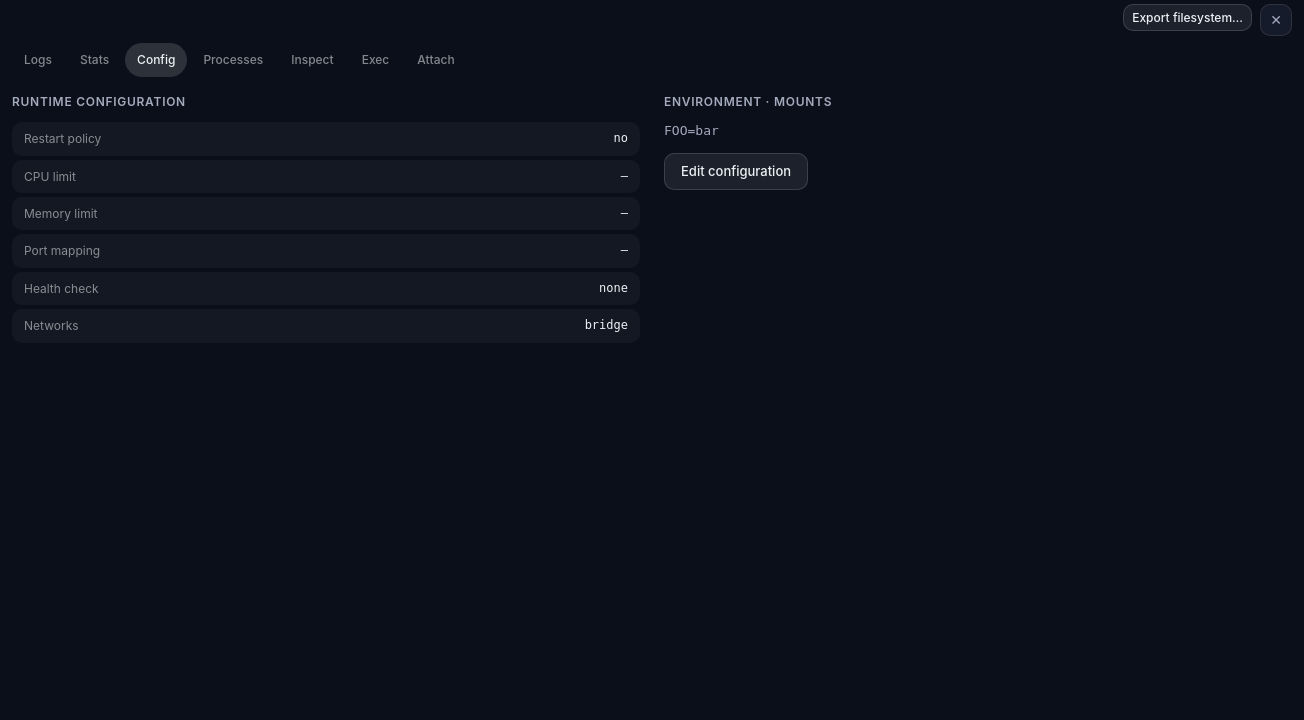
Test: ContainerDetailPanel — Config tab (REQ-24, REQ-25) › reports the daemon's own message on failure and keeps the edited input intact
Click the button "Edit configuration": (736, 171) [664,153,808,190]
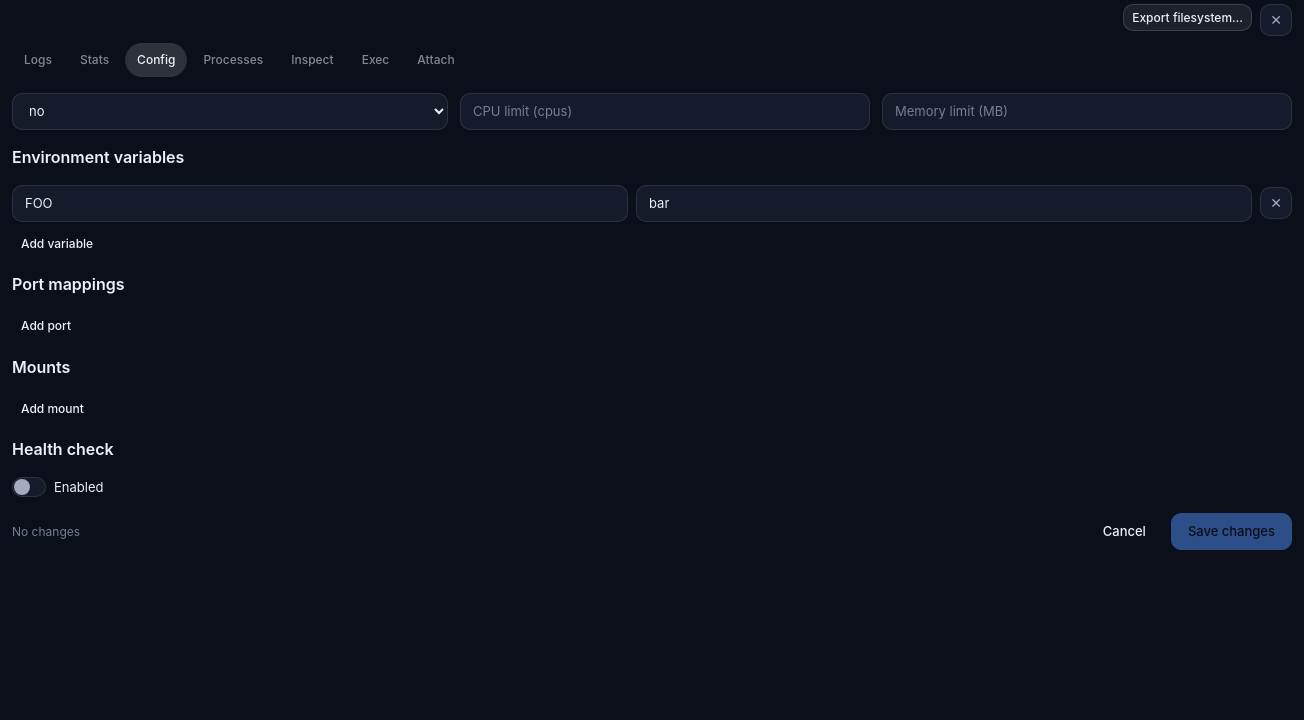
Select "always" in the dropdown named "Restart policy": (230, 111) [12,93,448,130]
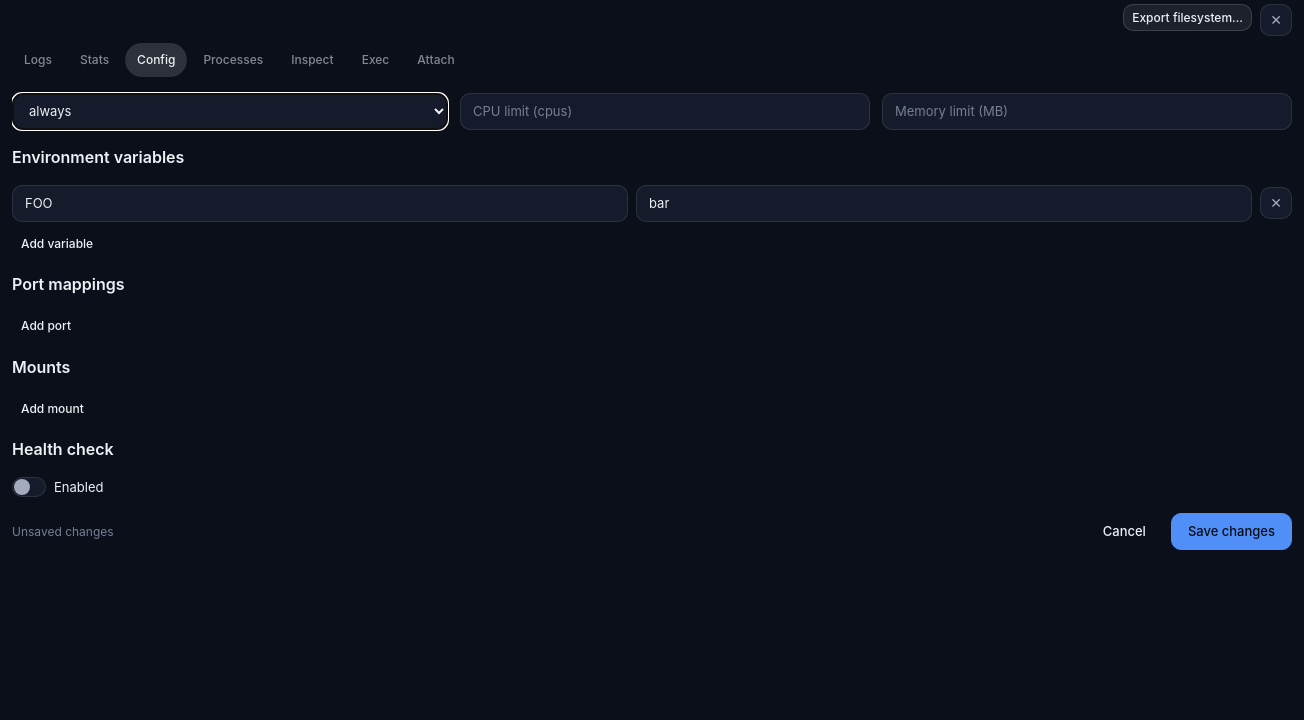
Click the button "Save changes": (1231, 532) [1171,513,1292,550]
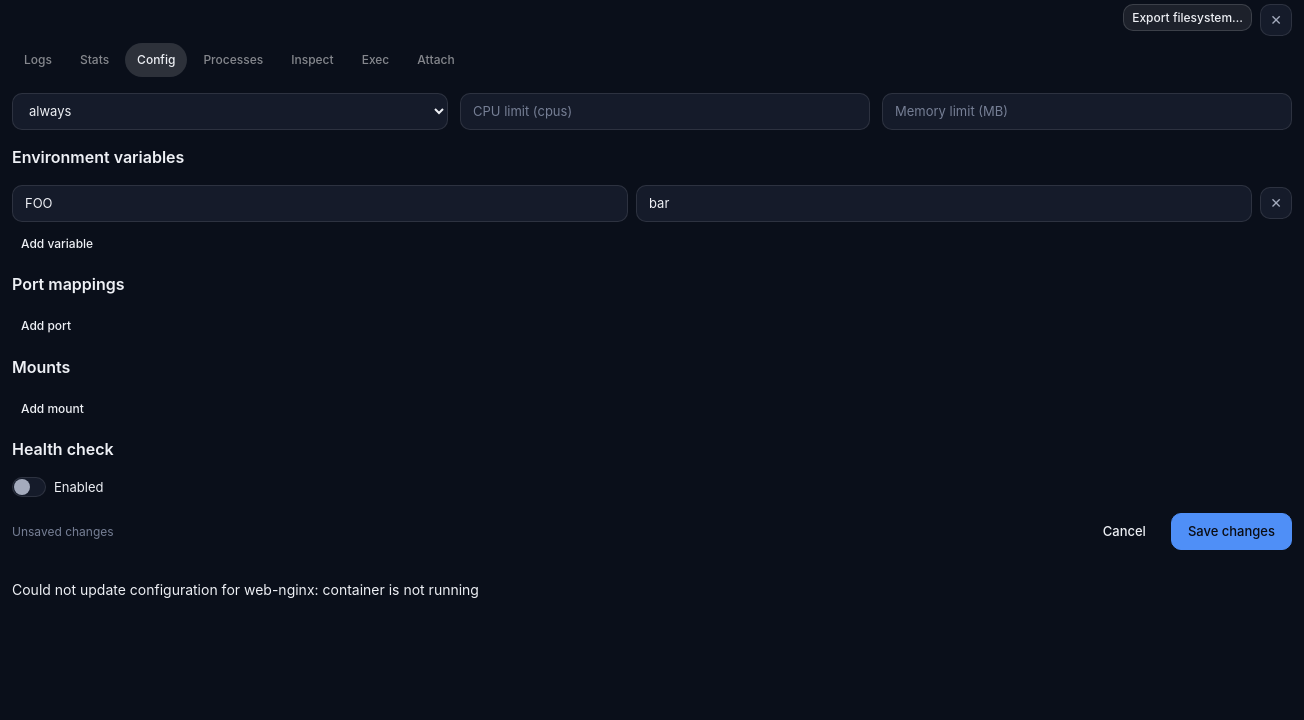
Now the text "container is not running" is shown, box [12,581,479,598]
